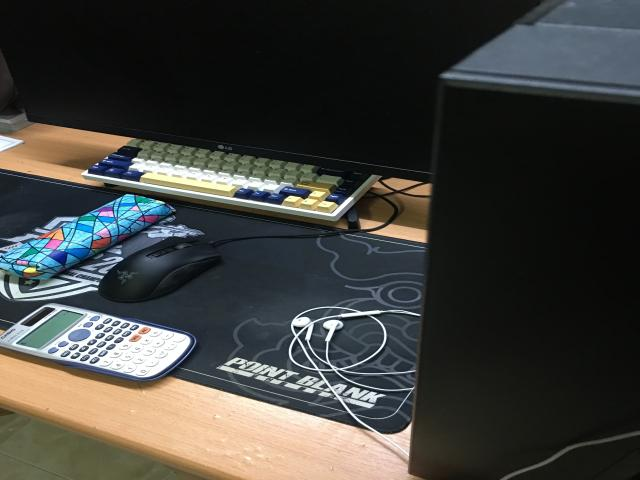Mouse: (98, 236, 222, 302)
paper: (0, 136, 23, 152)
wire: (290, 307, 420, 390)
